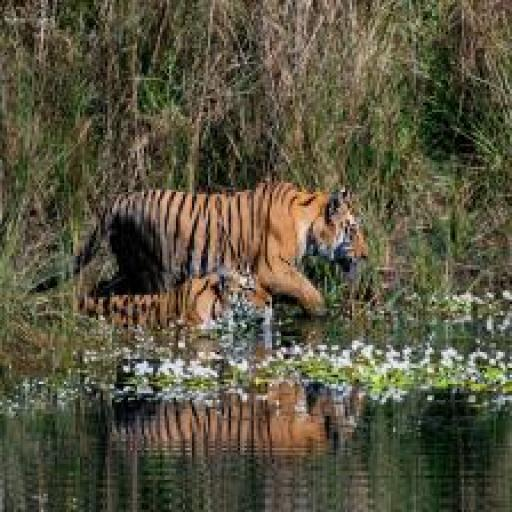Tiger: (69, 160, 377, 309), (60, 265, 329, 361)
